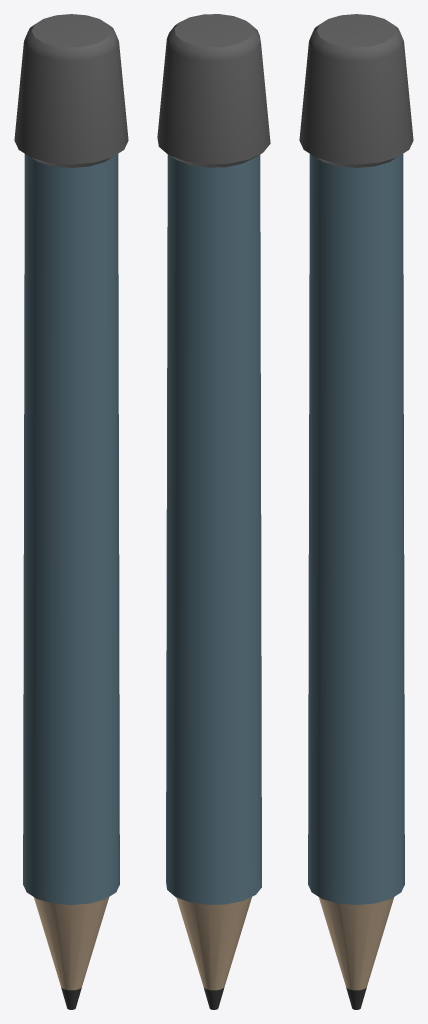
Rendered from Pen06.fbx.
The picture shows the model from 3 angles, left to right: view 1: azimuth 90°, elevation 25°; view 2: azimuth 150°, elevation 25°; view 3: azimuth 270°, elevation 25°; orthographic projection.
Parts seen in each view (by area): view 1: Pen06; view 2: Pen06; view 3: Pen06.
Part boxes in pixels (<box>): Pen06: <box>14,14,128,1009</box>; Pen06: <box>157,14,270,1009</box>; Pen06: <box>299,14,413,1009</box>.
Bounding box in the file's own units: 0.0125 × 0.0125 × 0.1186.
